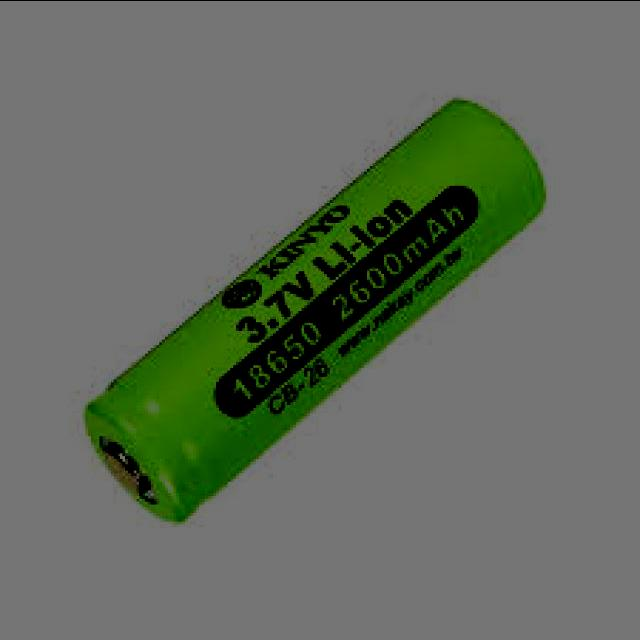AA: (90, 100, 540, 518)
